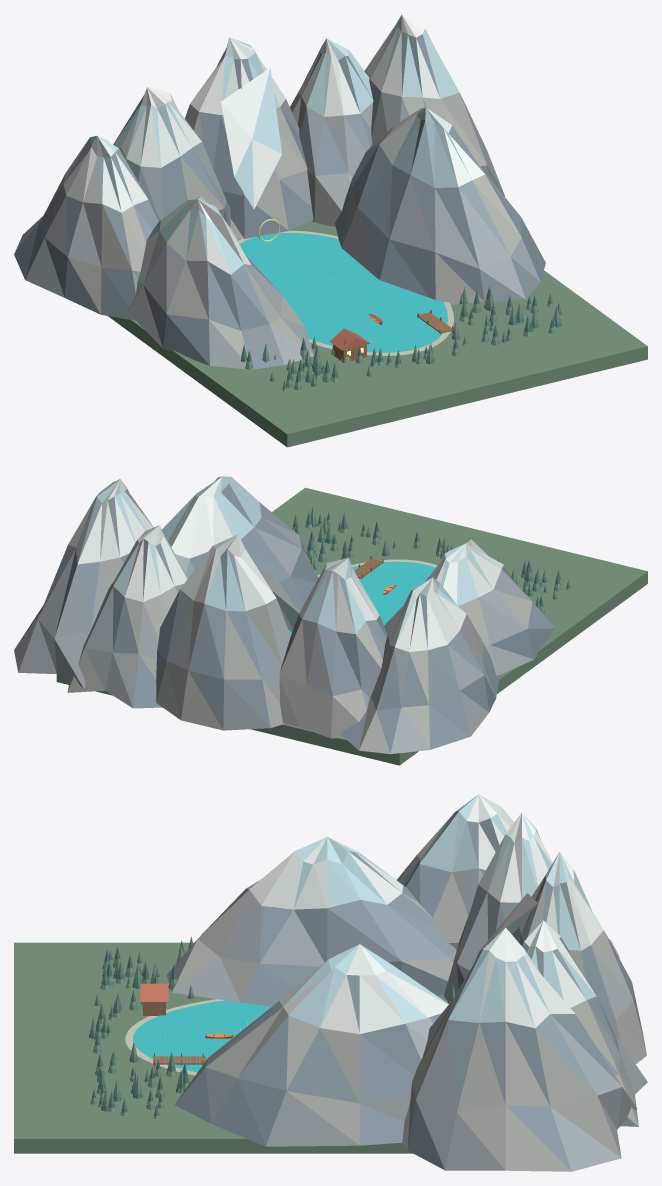
Rendered from lake-louise.glb.
The picture shows the model from 3 angles, top to bottom: view 1: azimuth 30°, elevation 25°; view 2: azimuth 150°, elevation 25°; view 3: azimuth 270°, elevation 25°; orthographic projection. The views are drawn at different scales.
Parts seen in each view (by area): view 1: Diorama ground, Rocky ridge 1, Rocky ridge 0, Rocky ridge 5, Lake Louise inspired water, Rocky ridge 3, Rocky ridge 4, Rocky ridge 6, Rocky ridge 2, Victoria inspired glacier, Evergreen forest, Rounded limestone lakeshore; view 2: Rocky ridge 3, Diorama ground, Rocky ridge 5, Rocky ridge 2, Rocky ridge 6, Rocky ridge 4, Rocky ridge 1, Rocky ridge 0, Evergreen forest, Lake Louise inspired water, Victoria inspired glacier; view 3: Rocky ridge 6, Rocky ridge 1, Diorama ground, Rocky ridge 0, Rocky ridge 3, Rocky ridge 5, Rocky ridge 2, Rocky ridge 4, Lake Louise inspired water, Evergreen forest, Victoria inspired glacier, Rounded limestone lakeshore (+1 smaller).
Boxes of the visible parts, box(x1,y1,x2,y2) form: Diorama ground: box(108, 221, 647, 447); Rocky ridge 1: box(335, 107, 545, 304); Rocky ridge 0: box(127, 196, 313, 369); Rocky ridge 5: box(14, 136, 160, 320); Lake Louise inspired water: box(240, 233, 447, 352); Rocky ridge 3: box(185, 37, 313, 239); Rocky ridge 4: box(290, 38, 373, 226); Rocky ridge 6: box(364, 14, 504, 196); Rocky ridge 2: box(113, 87, 230, 227); Victoria inspired glacier: box(221, 67, 281, 209); Evergreen forest: box(240, 286, 562, 391); Rounded limestone lakeshore: box(238, 230, 453, 355); Rocky ridge 3: box(156, 534, 290, 730); Diorama ground: box(56, 487, 647, 765); Rocky ridge 5: box(340, 576, 499, 754); Rocky ridge 2: box(279, 558, 387, 738); Rocky ridge 6: box(14, 479, 153, 687); Rocky ridge 4: box(67, 525, 188, 708); Rocky ridge 1: box(162, 476, 318, 611); Rocky ridge 0: box(384, 539, 554, 676); Evergreen forest: box(292, 507, 570, 613); Lake Louise inspired water: box(288, 561, 435, 635); Victoria inspired glacier: box(257, 568, 299, 631); Rocky ridge 6: box(400, 927, 636, 1171); Rocky ridge 1: box(174, 944, 448, 1146); Diorama ground: box(14, 942, 448, 1153); Rocky ridge 0: box(167, 836, 456, 1006); Rocky ridge 3: box(512, 852, 646, 1063); Rocky ridge 5: box(397, 794, 619, 957); Rocky ridge 2: box(443, 812, 552, 1002); Rocky ridge 4: box(522, 920, 647, 1126); Lake Louise inspired water: box(133, 1000, 271, 1072); Evergreen forest: box(89, 937, 455, 1119); Victoria inspired glacier: box(475, 893, 537, 961); Rounded limestone lakeshore: box(125, 999, 224, 1075).
Bounding box in the file's own units: 110 × 43.3 × 117.
